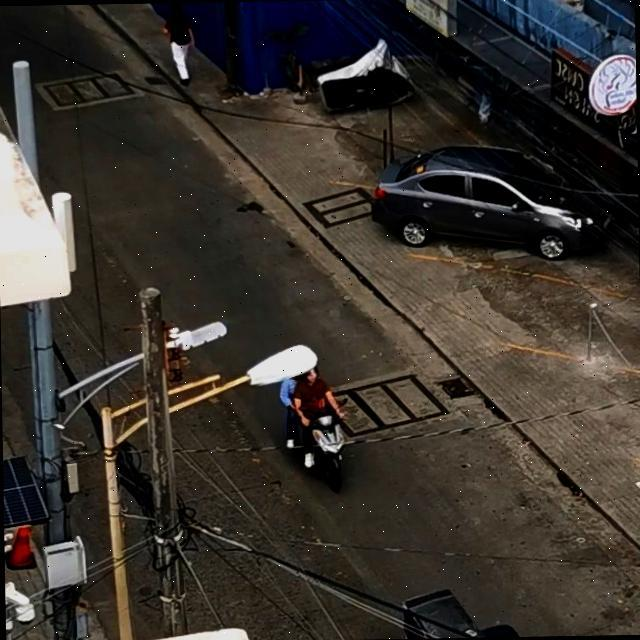Tricycle: (398, 585, 554, 639)
